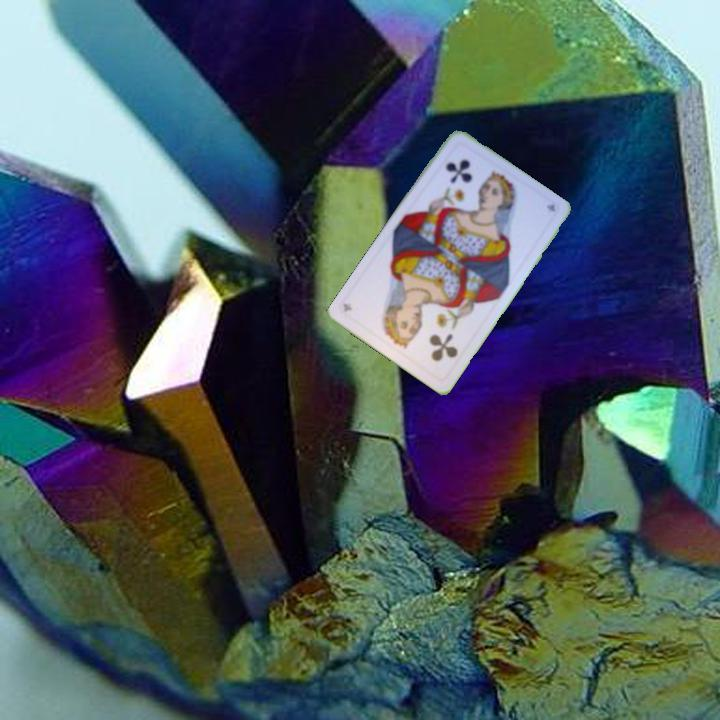c_q.png: (388, 299, 474, 383), (425, 138, 510, 222)
